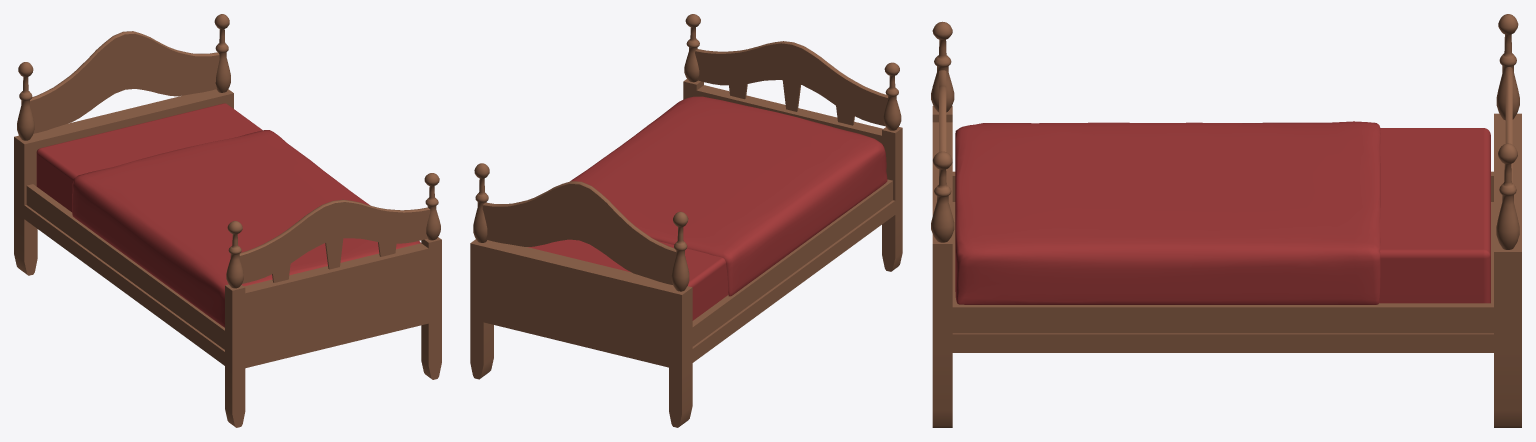
The model's file is AdultBed_Mesh.fbx.
3 views of the same model, side by side, from view 1: azimuth 30°, elevation 25°; view 2: azimuth 150°, elevation 25°; view 3: azimuth 270°, elevation 25° (orthographic). The views are drawn at different scales.
Visible parts, largest first — view 1: BedFrame, Matress1, FrameRailing_Head, Matress, FrameRailing_Foot, BedRailingSide_Mesh_01, BedPole_Mesh_03, BedPole_Mesh_04, BedPole_Mesh_01, BedPole_Mesh_05, Plank_Mesh4; view 2: Matress1, BedFrame, FrameRailing_Head, FrameRailing_Foot, BedRailingSide_Mesh_01, Matress, BedPole_Mesh_03, BedPole_Mesh_01, BedPole_Mesh_04, BedPole_Mesh_05, Plank_Mesh4; view 3: Matress1, BedFrame, Matress, BedRailingSide_Mesh_02, BedPole_Mesh_04, BedPole_Mesh_05, BedPole_Mesh_03, BedPole_Mesh_01, FrameRailing_Foot, FrameRailing_Head.
Part boxes in pixels (x1,y1,x2,y2): BedFrame: [14, 89, 441, 427]; Matress1: [72, 130, 420, 327]; FrameRailing_Head: [30, 31, 219, 133]; Matress: [36, 103, 262, 212]; FrameRailing_Foot: [239, 199, 430, 283]; BedRailingSide_Mesh_01: [26, 184, 224, 349]; BedPole_Mesh_03: [17, 62, 34, 140]; BedPole_Mesh_04: [214, 14, 230, 92]; BedPole_Mesh_01: [226, 221, 243, 288]; BedPole_Mesh_05: [424, 173, 440, 240]; Plank_Mesh4: [325, 238, 343, 269]; Matress1: [570, 96, 887, 296]; BedFrame: [470, 79, 902, 427]; FrameRailing_Head: [482, 181, 676, 284]; FrameRailing_Foot: [695, 41, 887, 125]; BedRailingSide_Mesh_01: [692, 179, 892, 346]; Matress: [528, 239, 728, 320]; BedPole_Mesh_03: [671, 211, 689, 291]; BedPole_Mesh_01: [883, 62, 901, 130]; BedPole_Mesh_04: [473, 163, 489, 242]; BedPole_Mesh_05: [684, 14, 700, 82]; Plank_Mesh4: [782, 80, 800, 111]; Matress1: [955, 121, 1380, 304]; BedFrame: [932, 106, 1521, 427]; Matress: [1379, 128, 1490, 303]; BedRailingSide_Mesh_02: [952, 303, 1493, 333]; BedPole_Mesh_04: [1496, 143, 1519, 249]; BedPole_Mesh_05: [931, 151, 954, 242]; BedPole_Mesh_03: [1496, 14, 1519, 120]; BedPole_Mesh_01: [931, 21, 954, 112]; FrameRailing_Foot: [939, 70, 946, 175]; FrameRailing_Head: [1505, 67, 1512, 182].
Bounding box in the file's own units: 109 × 106 × 195.
